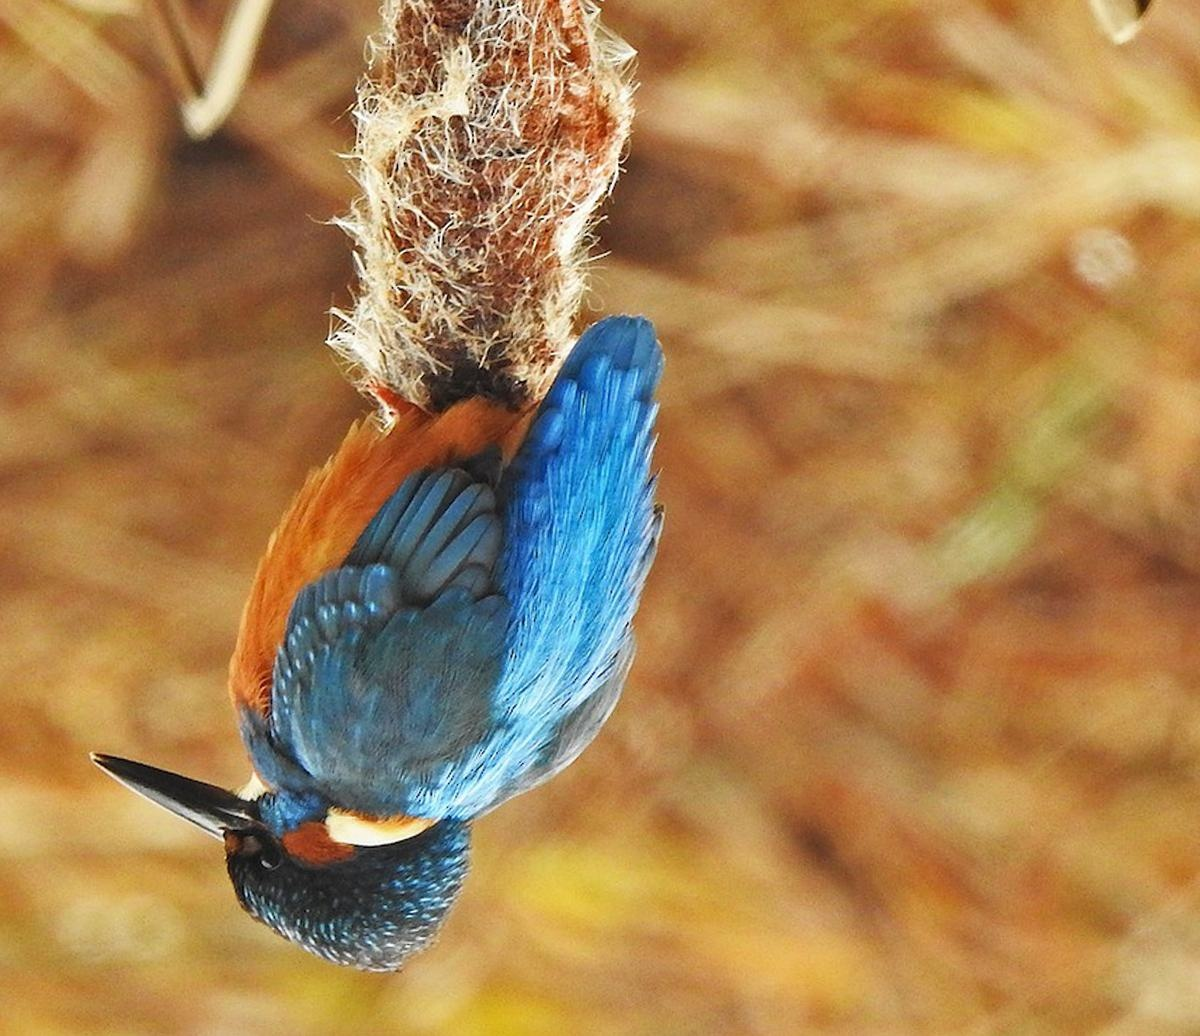kingfisher: (94, 326, 671, 982)
